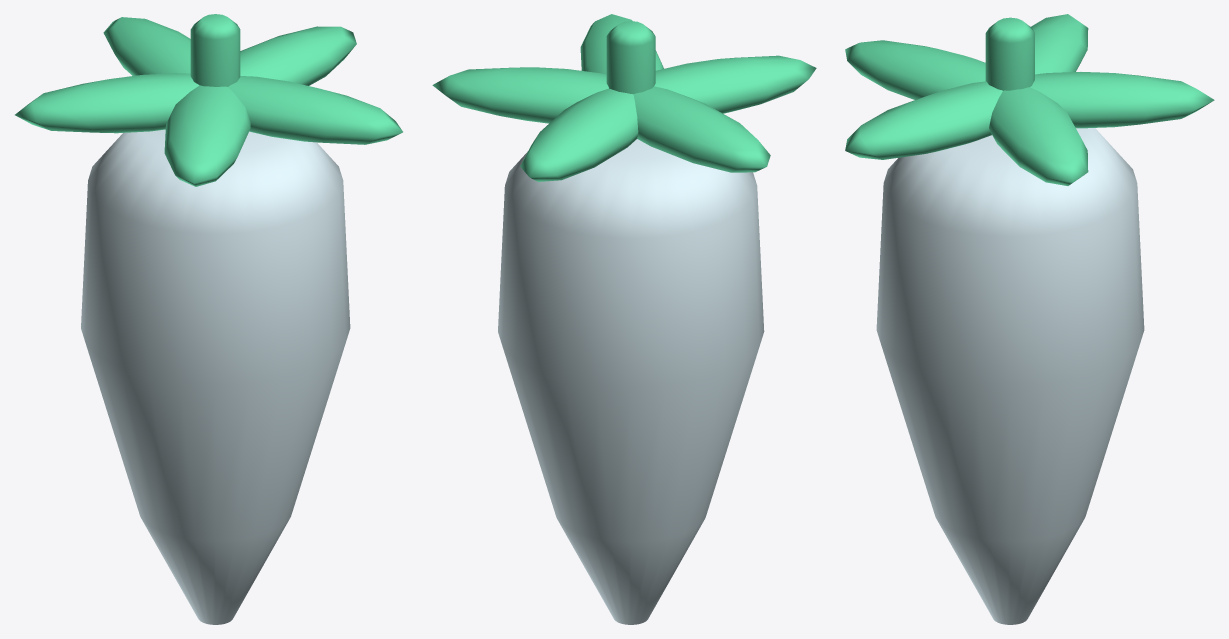
Rendered from radish.glb.
3 renders of one model, left to right at view 1: azimuth 30°, elevation 25°; view 2: azimuth 150°, elevation 25°; view 3: azimuth 270°, elevation 25°, orthographic.
Visible parts, largest first — view 1: radish; view 2: radish; view 3: radish.
Boxes of the visible parts, x1=… form: radish: x1=15, y1=14, x2=402, y2=624; radish: x1=432, y1=14, x2=816, y2=624; radish: x1=845, y1=14, x2=1214, y2=624.
Bounding box in the file's own units: 0.5931 × 1 × 0.5641.
Materials: 1 (1 with a texture image).
